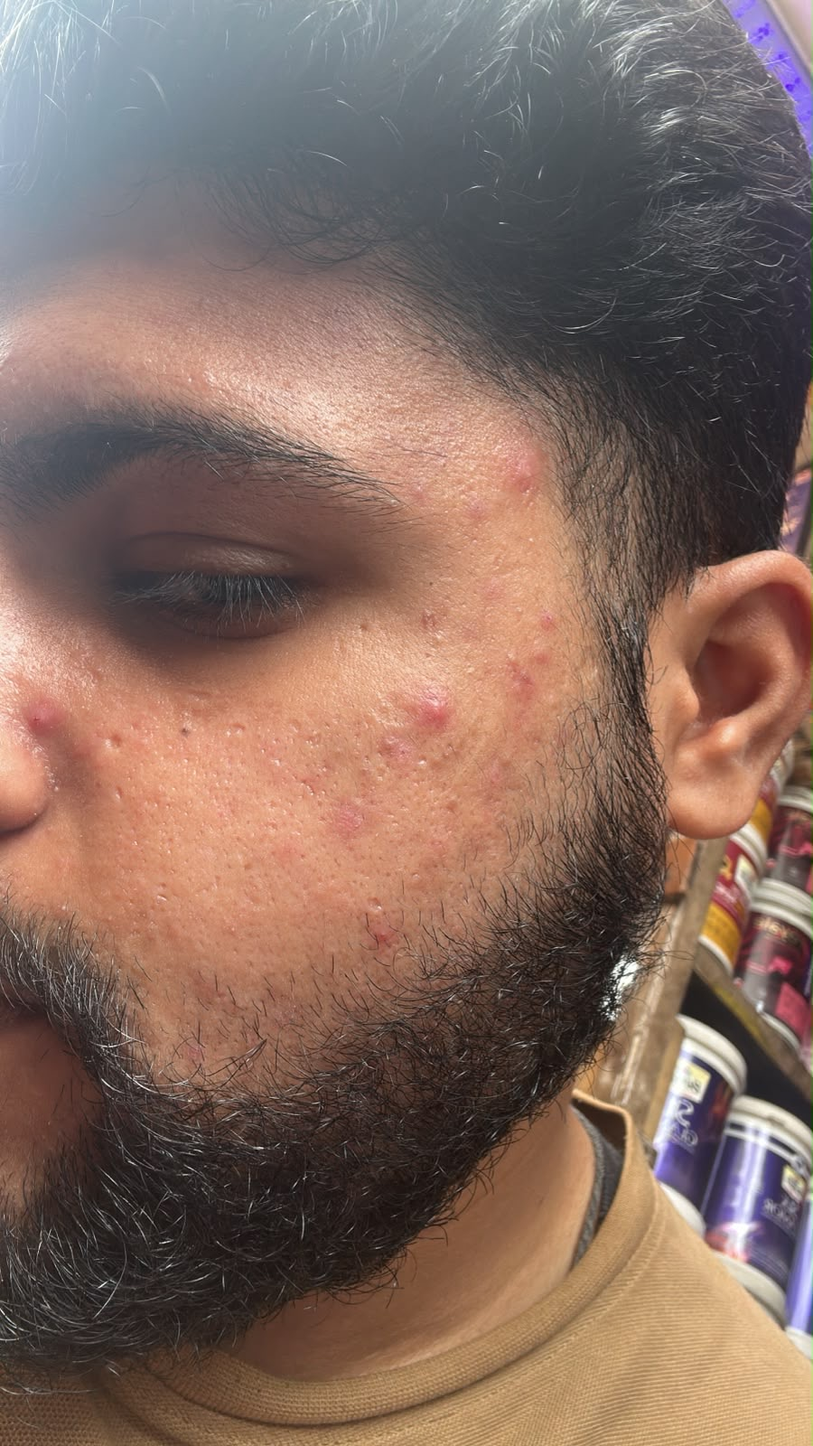closed_comedone: (511, 601, 528, 621)
macrocomedone: (431, 626, 452, 652)
papule: (22, 703, 58, 735), (422, 691, 456, 724), (371, 917, 395, 951), (379, 735, 408, 757), (530, 642, 557, 664), (512, 668, 538, 685)
pustule: (515, 463, 545, 490)
